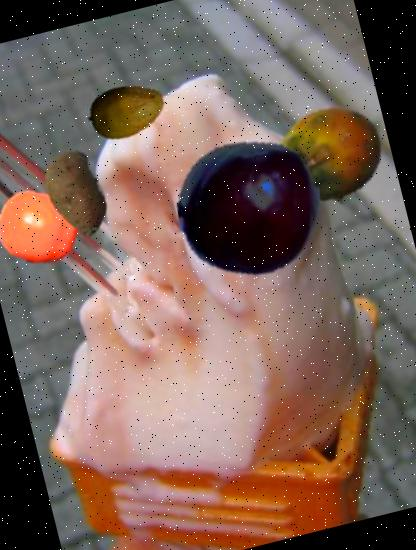Cactus: (250, 84, 397, 230)
Clementine: (0, 179, 87, 277)
Papaya: (78, 64, 174, 160)
Plum: (163, 122, 336, 295)
Potato: (22, 140, 132, 250)
Strawberry: (201, 146, 334, 279)
